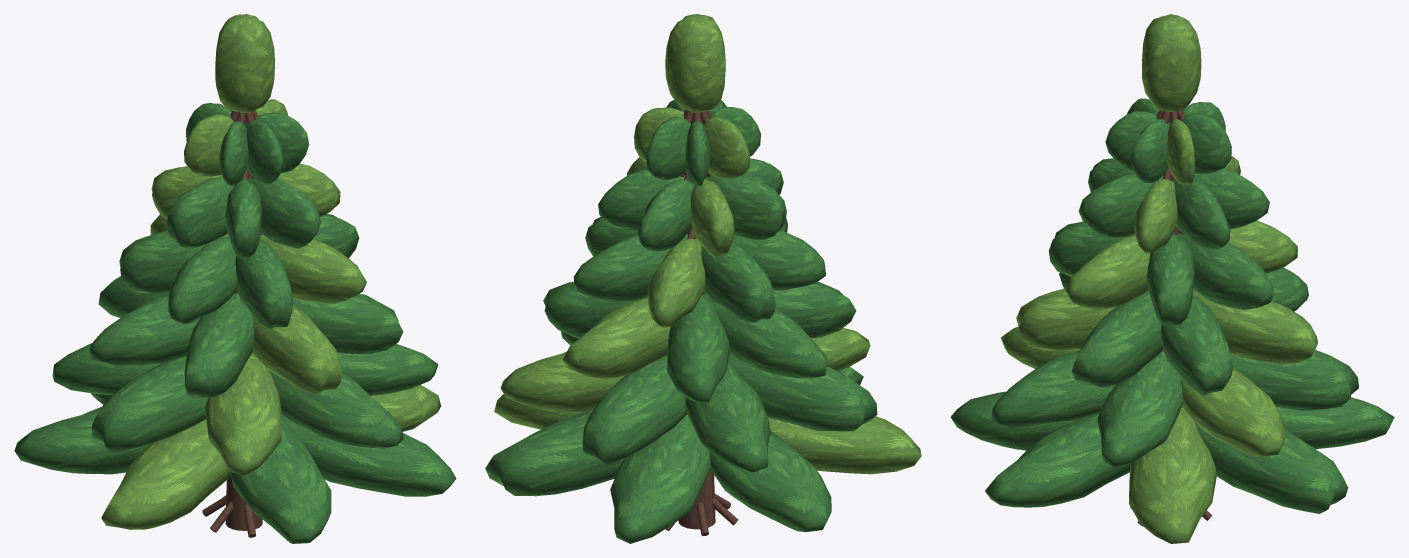
The model's file is tree_2.glb.
The picture shows the model from 3 angles, left to right: view 1: azimuth 30°, elevation 25°; view 2: azimuth 150°, elevation 25°; view 3: azimuth 270°, elevation 25°; orthographic projection.
Parts seen in each view (by area): view 1: tree_2; view 2: tree_2; view 3: tree_2.
Boxes of the visible parts, left/top/right/bottom form: tree_2: left=14, top=14, right=456, bottom=543; tree_2: left=485, top=14, right=921, bottom=543; tree_2: left=950, top=14, right=1394, bottom=543.
Bounding box in the file's own units: 2.81 × 3.56 × 2.87.
Materials: 1 (1 with a texture image).
